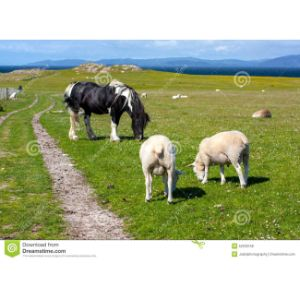horse: (62, 79, 149, 141)
sheep: (185, 129, 252, 190), (135, 131, 176, 204)
